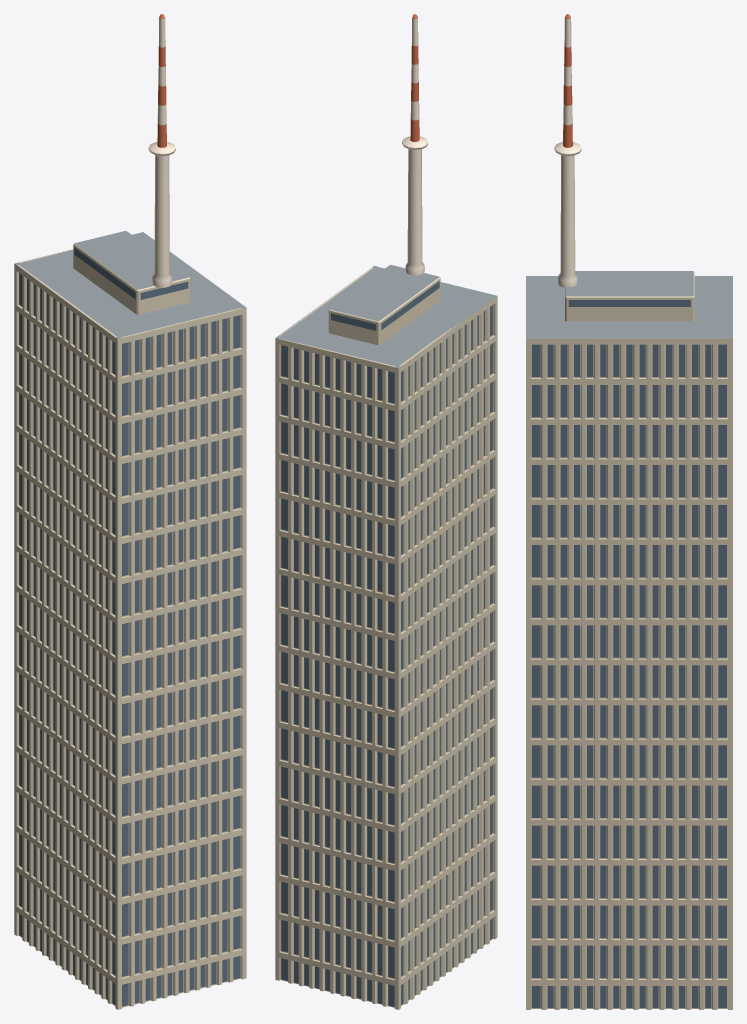
Rendered from hou-one-shell-plaza.glb.
The picture shows the model from 3 angles, left to right: view 1: azimuth 30°, elevation 25°; view 2: azimuth 150°, elevation 25°; view 3: azimuth 270°, elevation 25°; orthographic projection. The views are drawn at different scales.
Parts seen in each view (by area): view 1: One Shell Plaza; view 2: One Shell Plaza; view 3: One Shell Plaza.
Boxes of the visible parts, bbox=[...] form: One Shell Plaza: bbox=[14, 14, 246, 1009]; One Shell Plaza: bbox=[275, 14, 497, 1009]; One Shell Plaza: bbox=[526, 14, 732, 1009].
Bounding box in the file's own units: 42 × 300 × 58.3.
